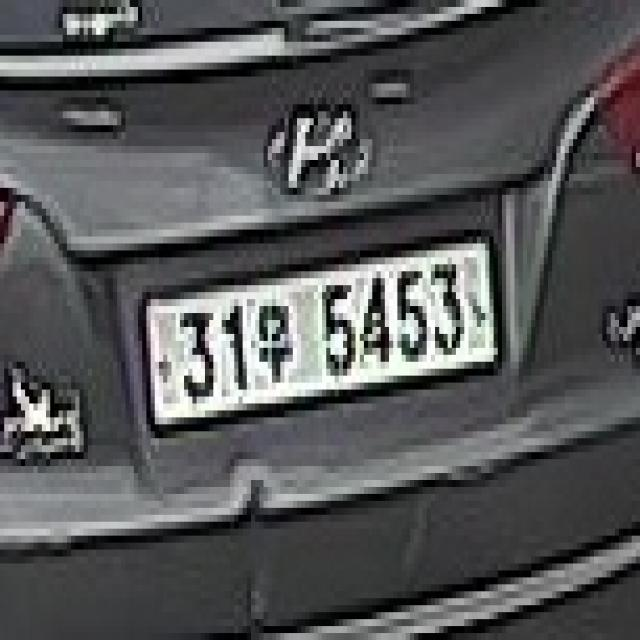1: (222, 299, 251, 397)
3: (427, 257, 464, 362), (180, 306, 217, 404)
4: (360, 271, 393, 369)
5: (393, 257, 431, 362), (318, 271, 355, 376)
license_plate: (142, 244, 502, 432)
u: (255, 292, 293, 383)
